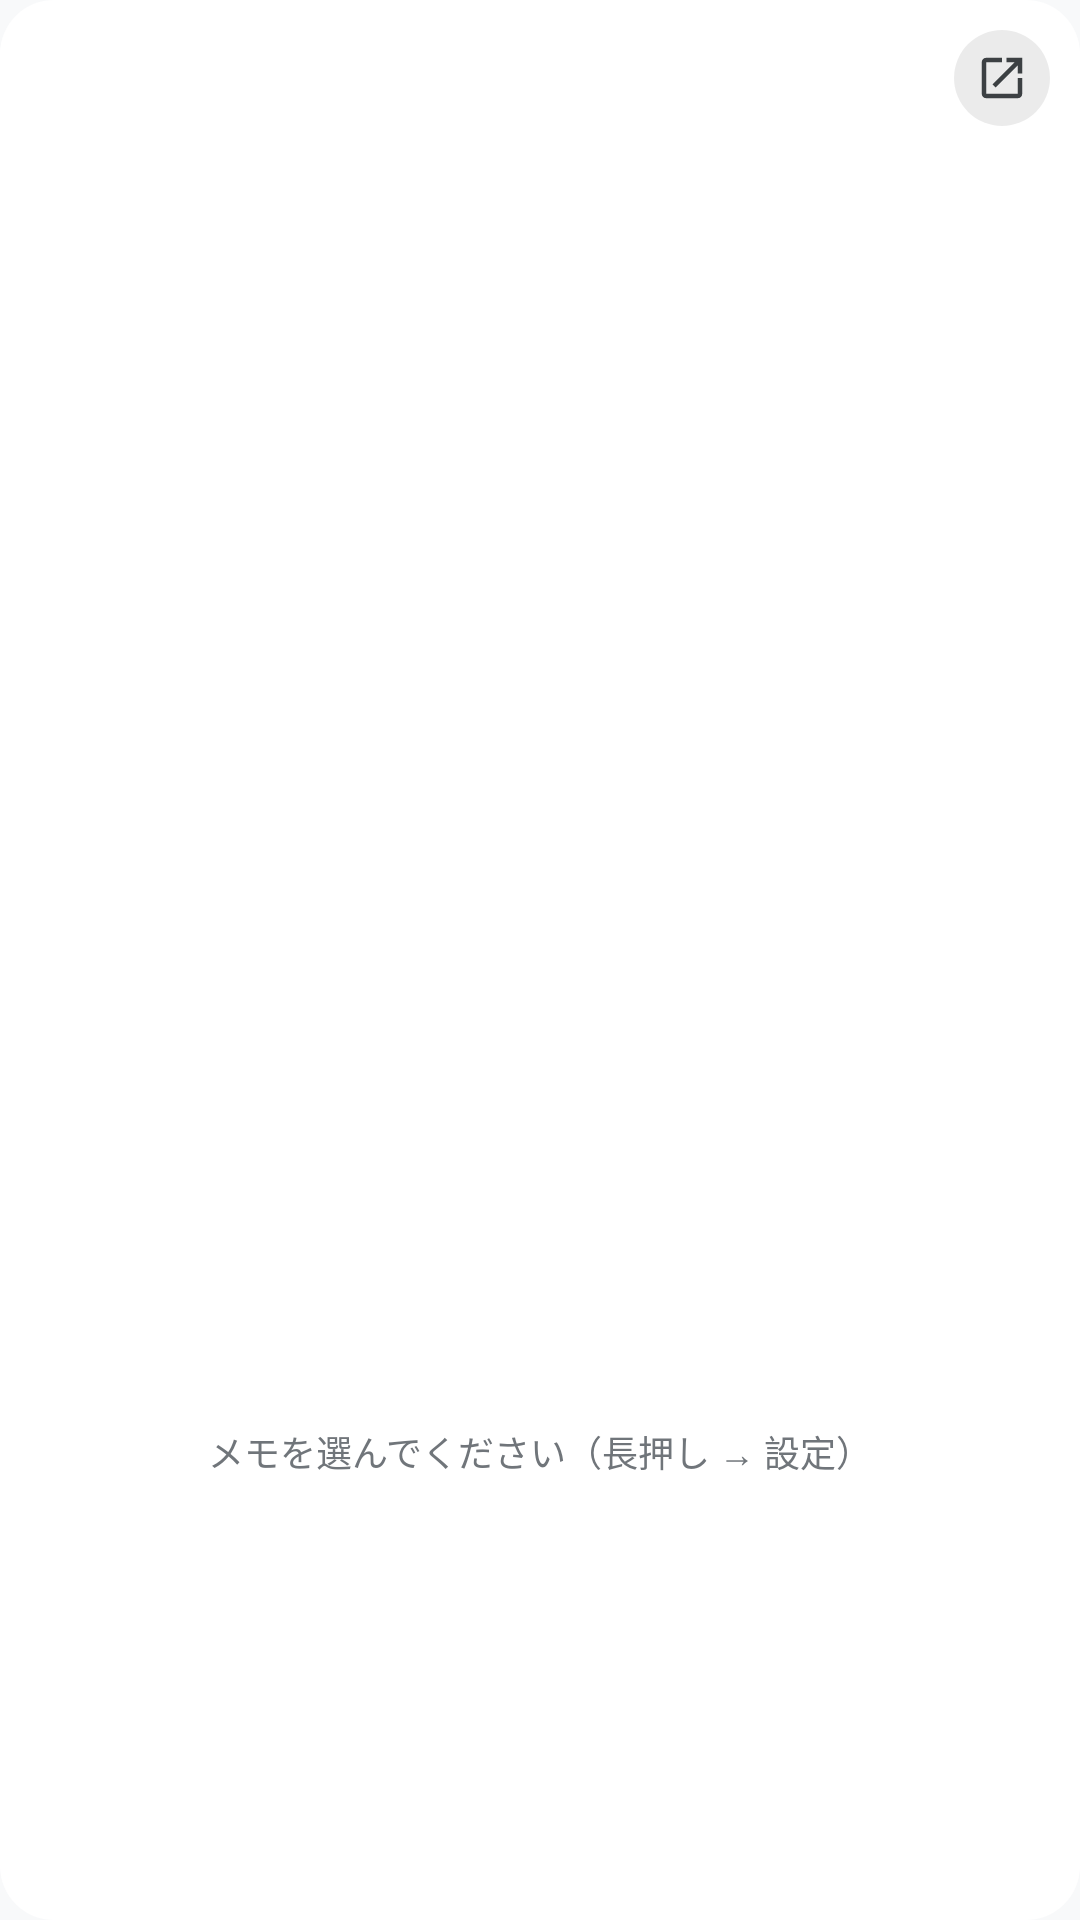

Icons on this 1080px×1920px Android screen, each with the point to tap as (x=x, y=y):
開く: (x=1002, y=78)
